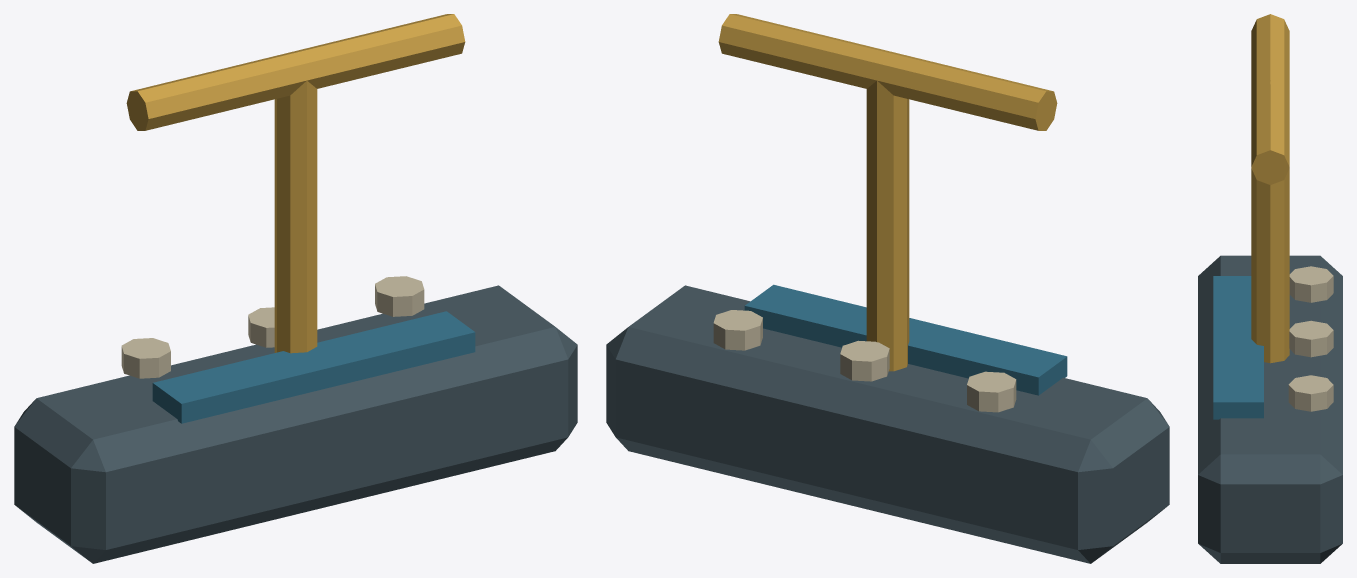
File: set_jewelry_stand.glb
3 views of the same model, side by side, from view 1: azimuth 30°, elevation 25°; view 2: azimuth 150°, elevation 25°; view 3: azimuth 270°, elevation 25° (orthographic). The views are drawn at different scales.
Visible parts, largest first — view 1: set_jewelry_stand; view 2: set_jewelry_stand; view 3: set_jewelry_stand.
Boxes of the visible parts, x1,y1,x2,y2 form: set_jewelry_stand: [14, 14, 577, 563]; set_jewelry_stand: [606, 14, 1169, 563]; set_jewelry_stand: [1198, 14, 1342, 563].
Size of the model in its own units: 0.32 by 0.262 by 0.09.
